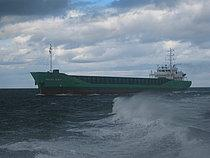Ship: (27, 40, 195, 98)
